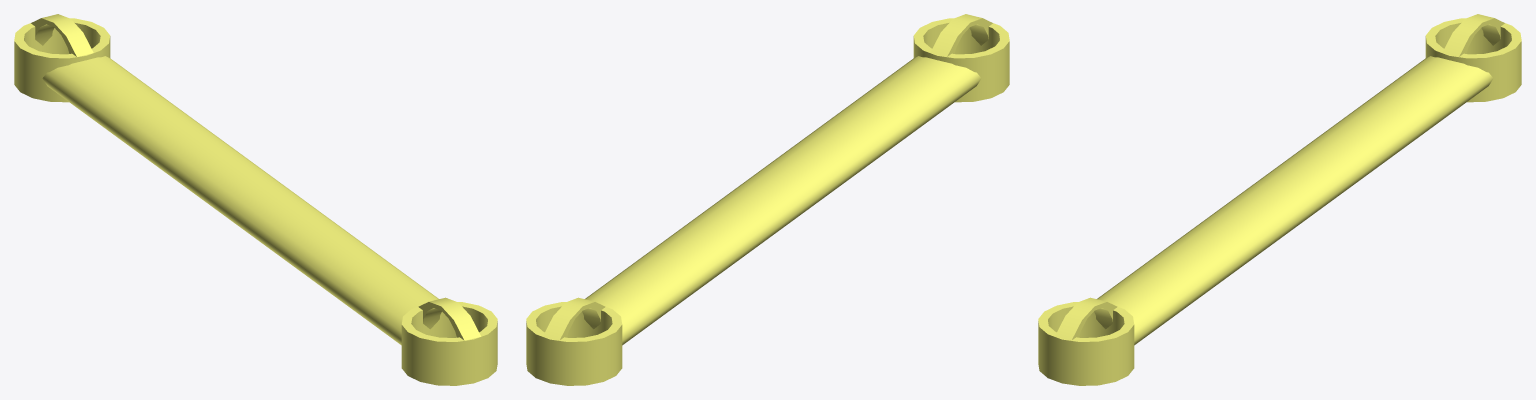
3 renders of one model, left to right at view 1: azimuth 30°, elevation 25°; view 2: azimuth 150°, elevation 25°; view 3: azimuth 330°, elevation 25°, orthographic.
Parts seen in each view (by area): view 1: 32293.dat; view 2: 32293.dat; view 3: 32293.dat.
Boxes of the visible parts, <box> form: 32293.dat: <box>14,14,497,385</box>; 32293.dat: <box>526,14,1009,385</box>; 32293.dat: <box>1038,14,1521,385</box>.
Size of the model in its own units: 0.008 by 0.00559 by 0.072.
